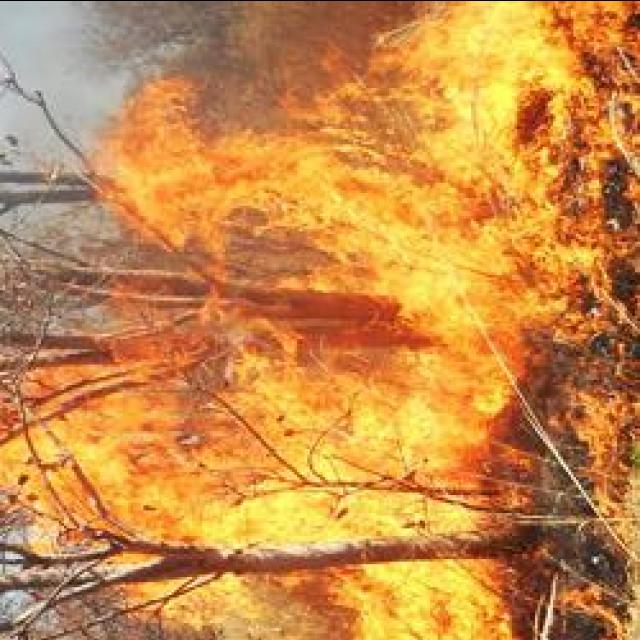fire: (107, 77, 499, 247), (124, 332, 447, 530), (400, 141, 580, 325), (394, 1, 582, 116), (328, 560, 504, 640)
